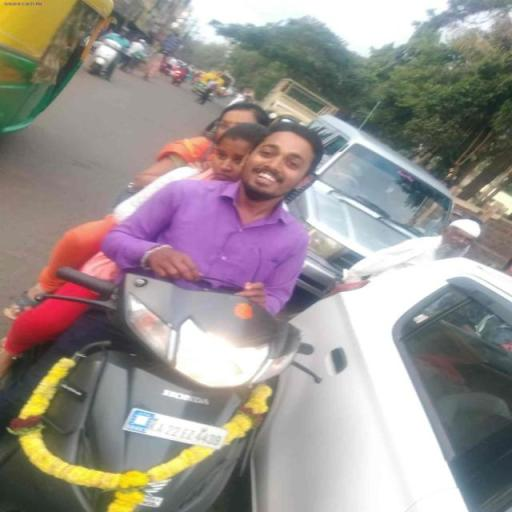tripple riding: (100, 89, 350, 317)
